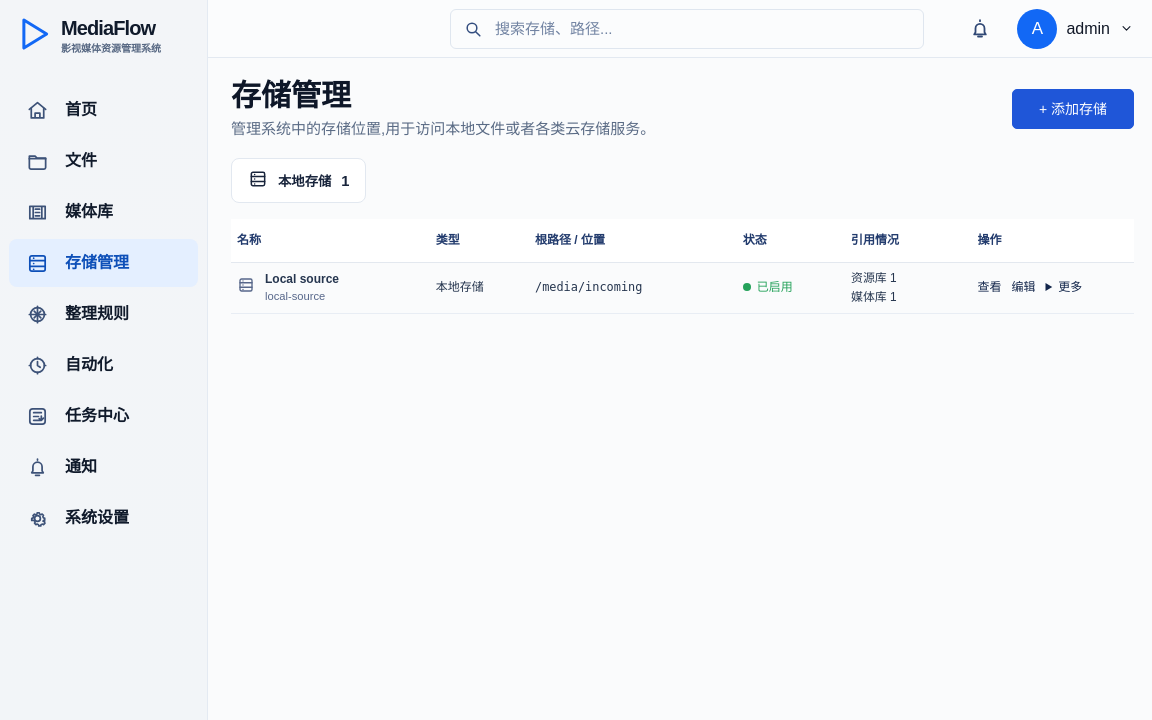
it: Storage management journey › surfaces a failed check with an actionable, secret-free recovery
Expected: the heading "存储管理" is shown, [231,79,351,112]
Click the button with aria-label "查看 Local source": x=989, y=288 [977,279,1001,296]
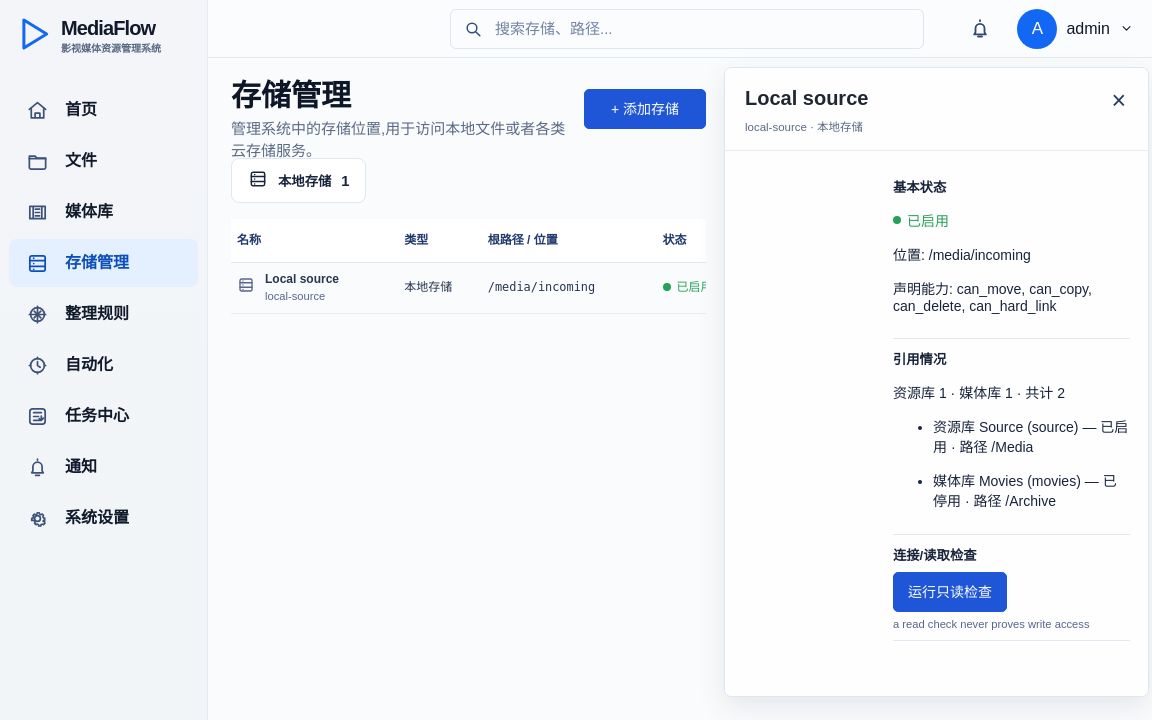
Click the button "运行只读检查": x=950, y=592 [893,572,1007,612]
(page scrolled)
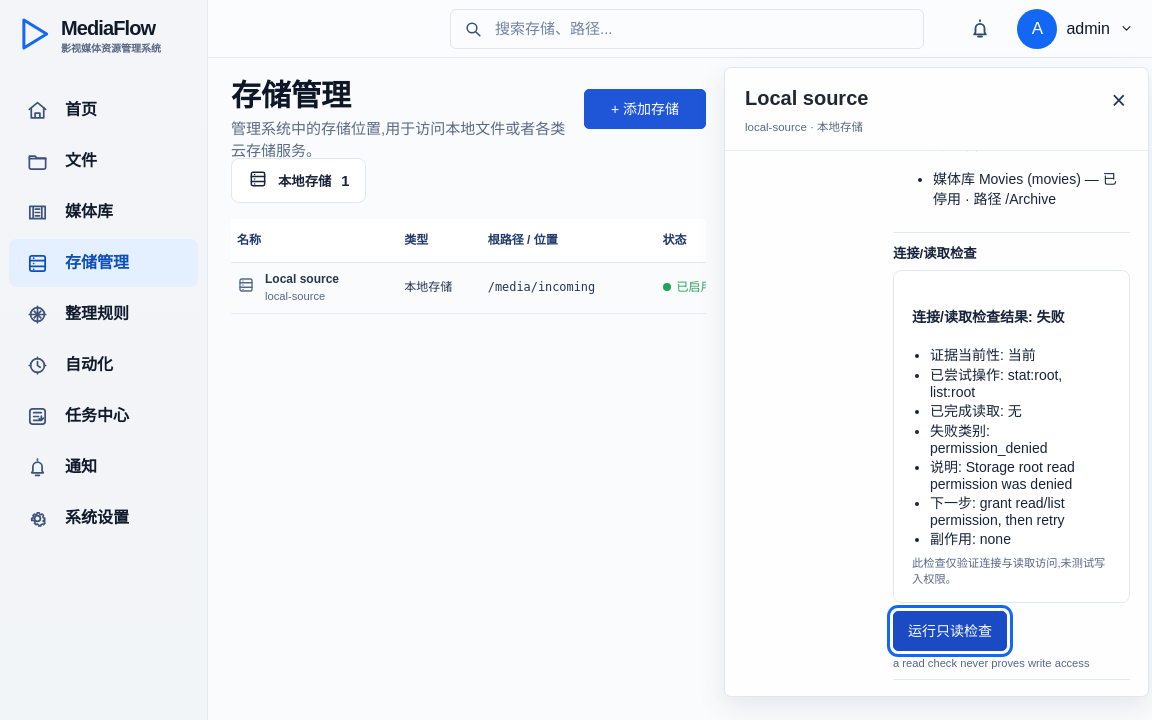
Now the heading "连接/读取检查结果: 失败" is shown, box [912,309,1064,325]
Now the list item "失败类别: permission_denied" is shown, box [930,423,1048,456]
Now the list item "下一步: grant read/list permission, then retry" is shown, box [930,495,1065,528]
